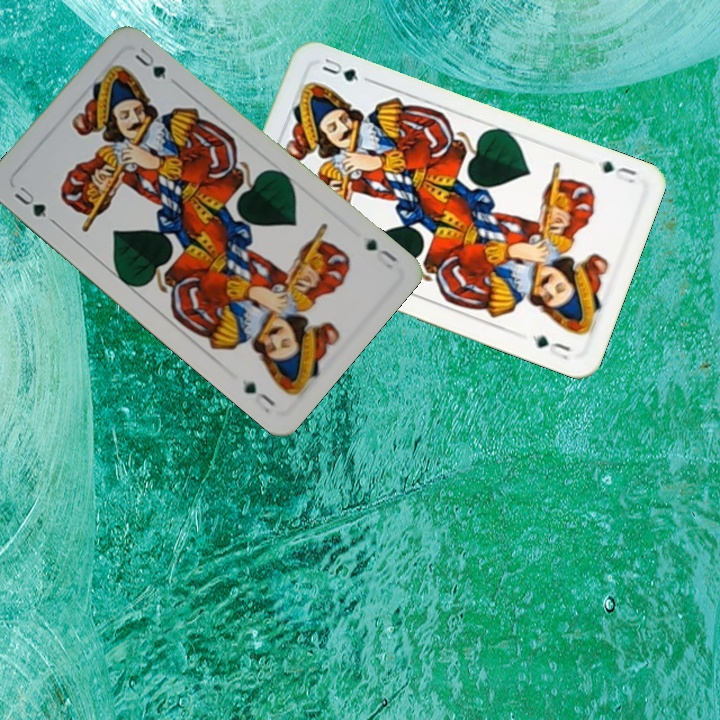GU: (10, 182, 49, 221), (361, 234, 401, 272), (593, 156, 640, 186)
